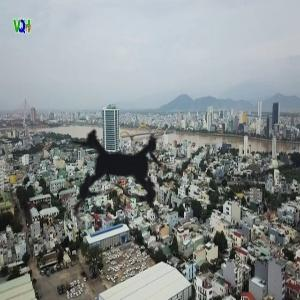drone: (22, 76, 221, 275)
